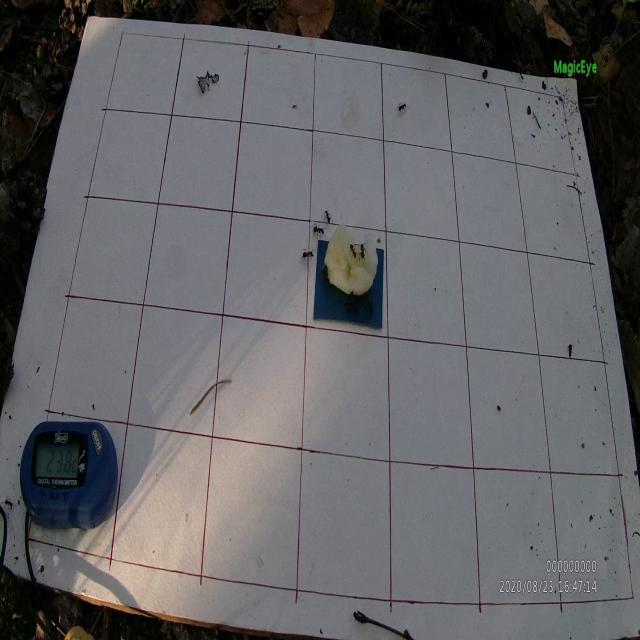Ant: (300, 247, 317, 266), (310, 221, 326, 241), (347, 240, 359, 264), (0, 495, 17, 510), (323, 208, 334, 230), (358, 242, 368, 261), (397, 102, 407, 114)
